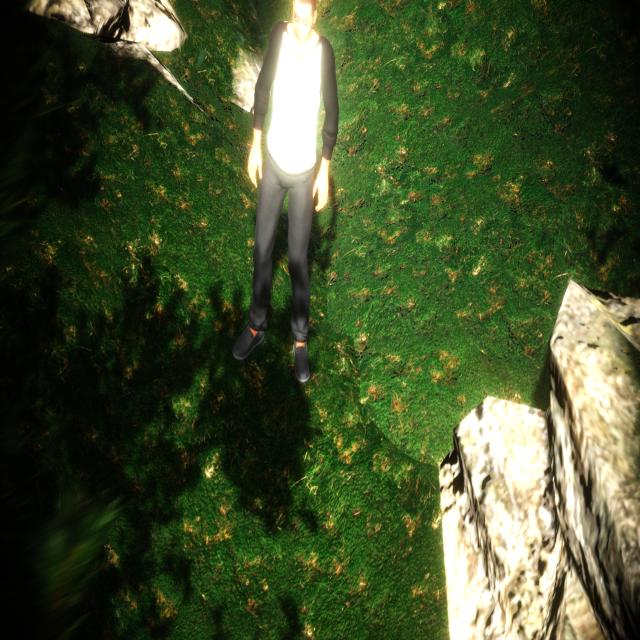Human: (229, 0, 343, 401)
